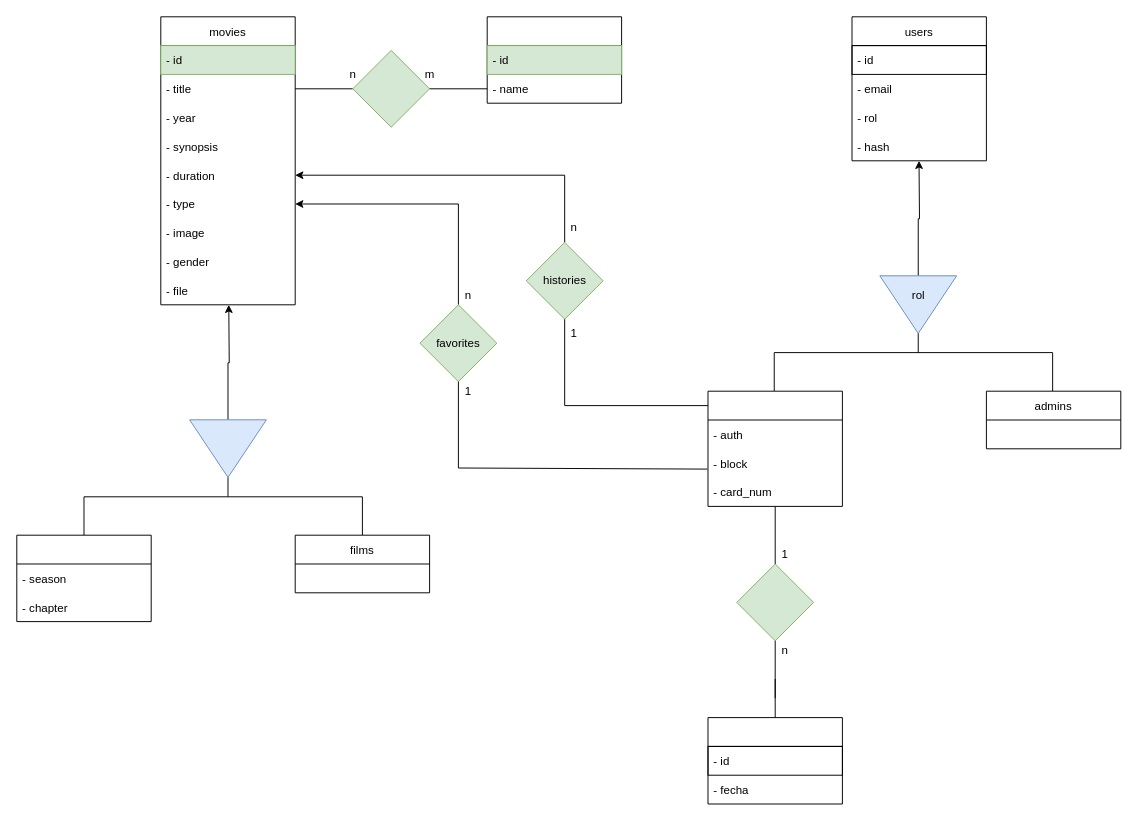
This 1138x821 diagram has some shape labels left out. The box of each missing label's shape, as (x1, y1, x2, y2) in pixels:
customers: (707, 390, 842, 506)
genders: (486, 16, 622, 103)
id: (352, 49, 430, 127)
pago: (707, 717, 842, 804)
series: (16, 534, 151, 622)
